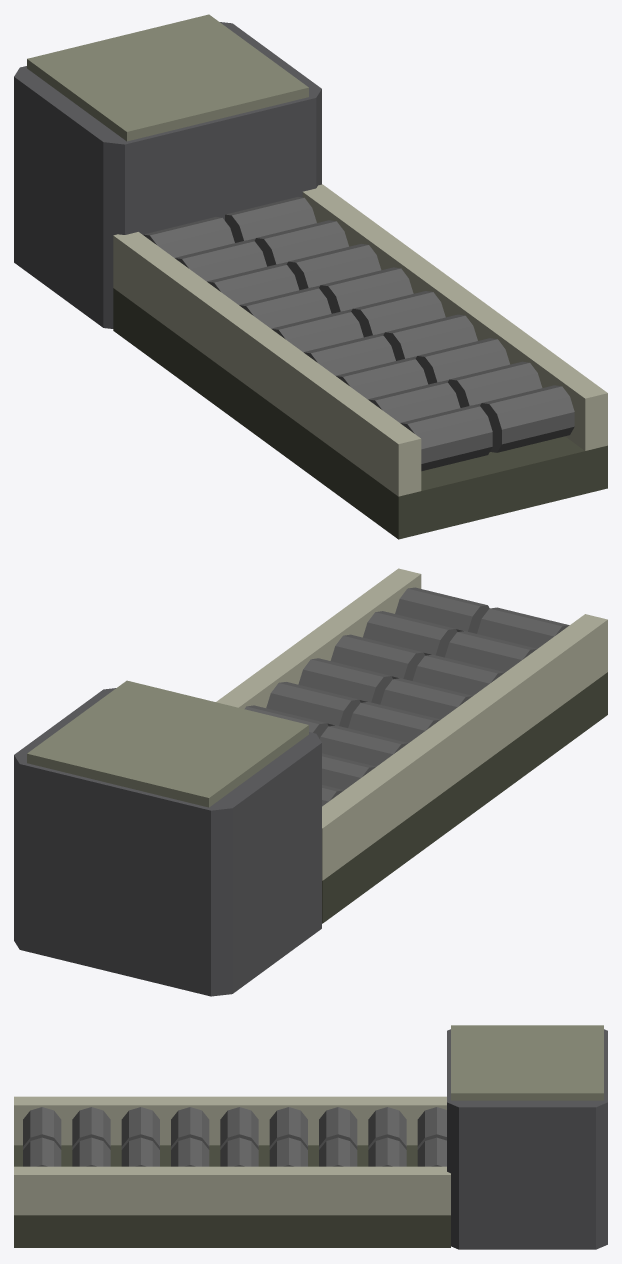
Rendered from vge_mech_artillery_loader.obj.
3 renders of one model, top to bottom at view 1: azimuth 30°, elevation 25°; view 2: azimuth 150°, elevation 25°; view 3: azimuth 270°, elevation 25°, orthographic. The views are drawn at different scales.
Parts seen in each view (by area): view 1: vge_mech_artillery_loader_21, vge_mech_artillery_loader_0, vge_mech_artillery_loader_1, vge_mech_artillery_loader_22, vge_mech_artillery_loader_2, vge_mech_artillery_loader_4, vge_mech_artillery_loader_3, vge_mech_artillery_loader_14, vge_mech_artillery_loader_16, vge_mech_artillery_loader_18, vge_mech_artillery_loader_12, vge_mech_artillery_loader_6 (+11 smaller); view 2: vge_mech_artillery_loader_21, vge_mech_artillery_loader_1, vge_mech_artillery_loader_22, vge_mech_artillery_loader_0, vge_mech_artillery_loader_2, vge_mech_artillery_loader_6, vge_mech_artillery_loader_8, vge_mech_artillery_loader_10, vge_mech_artillery_loader_4, vge_mech_artillery_loader_12, vge_mech_artillery_loader_9, vge_mech_artillery_loader_3 (+6 smaller); view 3: vge_mech_artillery_loader_21, vge_mech_artillery_loader_2, vge_mech_artillery_loader_0, vge_mech_artillery_loader_22, vge_mech_artillery_loader_1, vge_mech_artillery_loader_7, vge_mech_artillery_loader_13, vge_mech_artillery_loader_3, vge_mech_artillery_loader_9, vge_mech_artillery_loader_15, vge_mech_artillery_loader_5, vge_mech_artillery_loader_11 (+11 smaller).
Part boxes in pixels (x1,y1,x2,y2): vge_mech_artillery_loader_21: (14, 22, 321, 328); vge_mech_artillery_loader_0: (113, 288, 607, 539); vge_mech_artillery_loader_1: (113, 232, 421, 496); vge_mech_artillery_loader_22: (27, 14, 308, 141); vge_mech_artillery_loader_2: (302, 184, 607, 450); vge_mech_artillery_loader_4: (480, 385, 574, 452); vge_mech_artillery_loader_3: (400, 405, 492, 471); vge_mech_artillery_loader_14: (319, 267, 413, 313); vge_mech_artillery_loader_16: (286, 243, 381, 290); vge_mech_artillery_loader_18: (254, 220, 348, 266); vge_mech_artillery_loader_12: (351, 291, 445, 337); vge_mech_artillery_loader_6: (448, 361, 542, 407); vge_mech_artillery_loader_21: (14, 688, 321, 996); vge_mech_artillery_loader_1: (322, 614, 607, 880); vge_mech_artillery_loader_22: (27, 680, 308, 807); vge_mech_artillery_loader_0: (322, 672, 607, 923); vge_mech_artillery_loader_2: (216, 568, 421, 708); vge_mech_artillery_loader_6: (363, 611, 457, 657); vge_mech_artillery_loader_8: (330, 634, 424, 680); vge_mech_artillery_loader_10: (298, 658, 392, 704); vge_mech_artillery_loader_4: (395, 587, 489, 633); vge_mech_artillery_loader_12: (266, 682, 360, 727); vge_mech_artillery_loader_9: (380, 678, 472, 719); vge_mech_artillery_loader_3: (477, 607, 569, 648); vge_mech_artillery_loader_21: (447, 1029, 607, 1249); vge_mech_artillery_loader_2: (14, 1166, 450, 1215); vge_mech_artillery_loader_0: (14, 1145, 450, 1247); vge_mech_artillery_loader_22: (451, 1025, 603, 1100); vge_mech_artillery_loader_1: (14, 1096, 446, 1145); vge_mech_artillery_loader_7: (121, 1107, 159, 1149); vge_mech_artillery_loader_13: (269, 1107, 307, 1149); vge_mech_artillery_loader_3: (23, 1107, 61, 1149); vge_mech_artillery_loader_9: (171, 1107, 209, 1149); vge_mech_artillery_loader_15: (319, 1107, 357, 1149); vge_mech_artillery_loader_5: (72, 1107, 110, 1149); vge_mech_artillery_loader_11: (220, 1107, 258, 1149).
Size of the model in its own units: 0.96 by 0.82 by 2.95.
